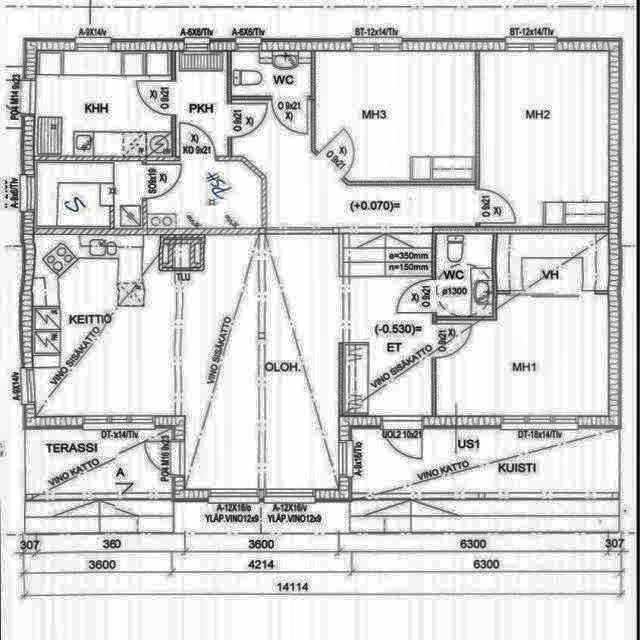room: (480, 51, 609, 227), (436, 294, 609, 417), (315, 51, 475, 181), (35, 51, 172, 156), (147, 161, 262, 229), (35, 161, 143, 228), (497, 234, 609, 290), (176, 51, 228, 156), (436, 234, 493, 317), (232, 51, 311, 96)
